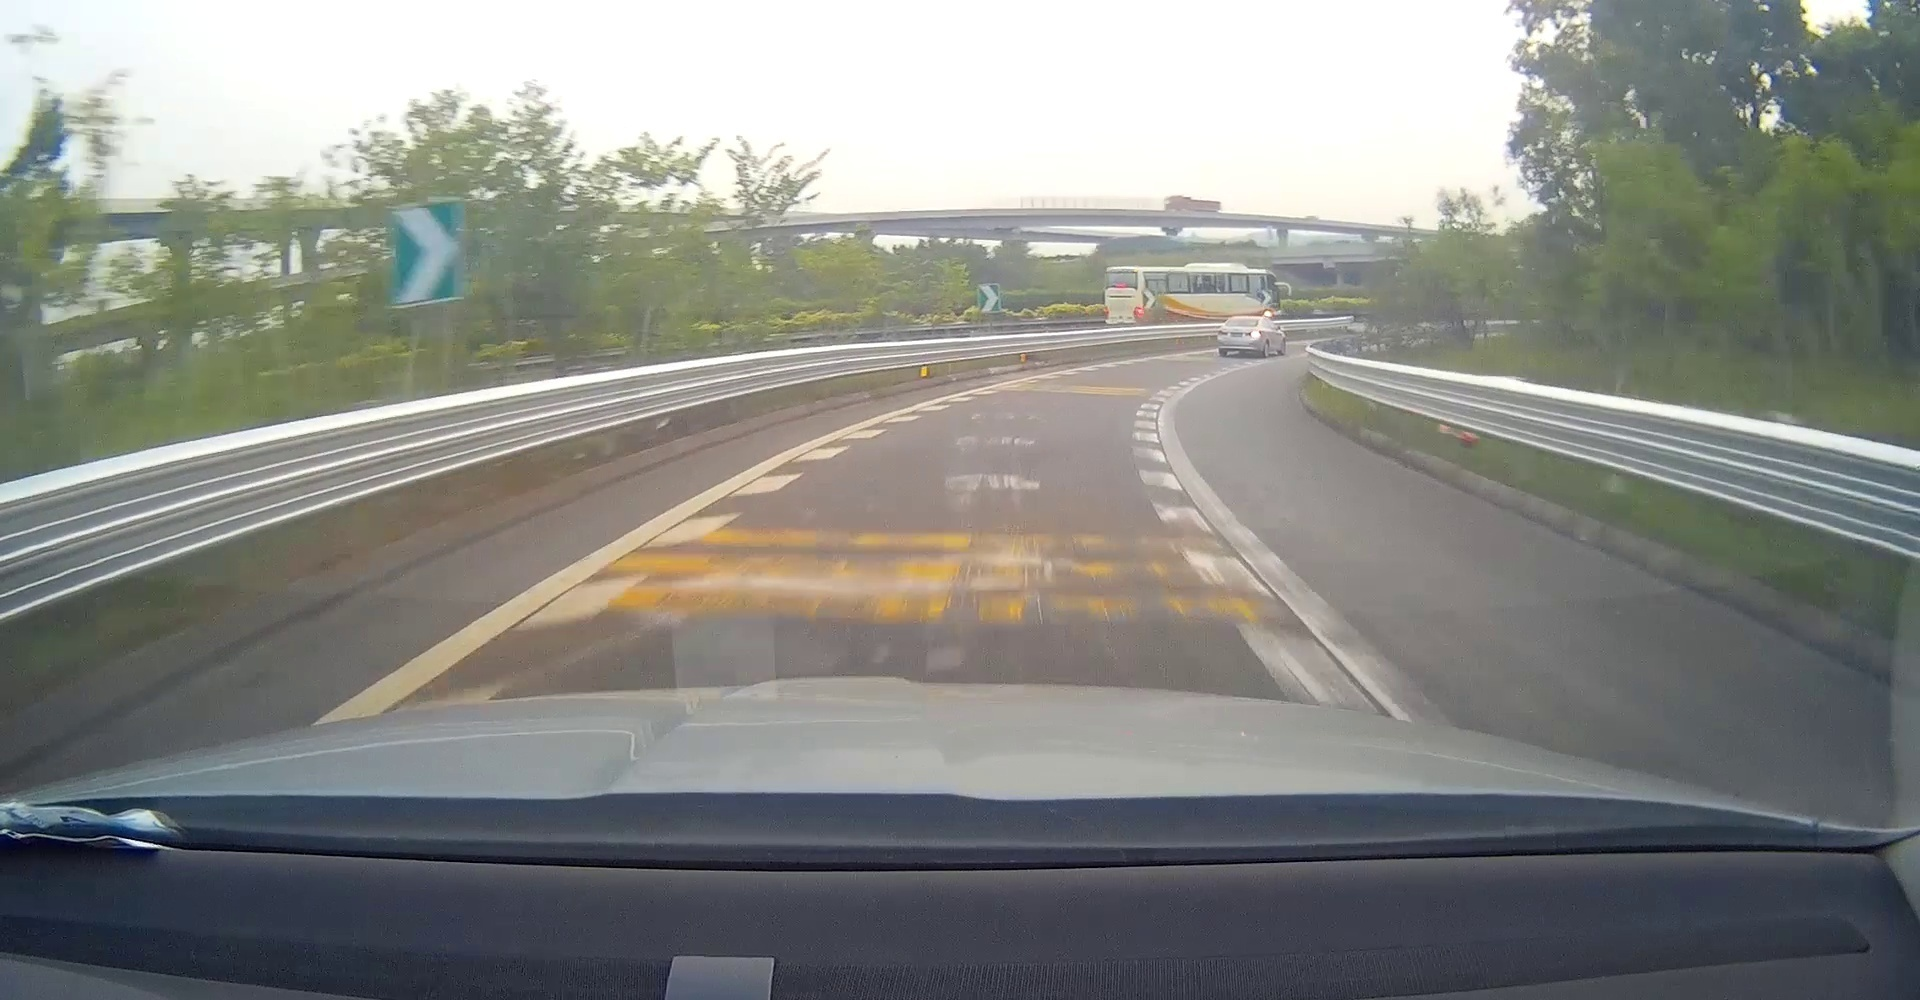L_light: (1217, 330, 1228, 336), (1103, 306, 1109, 319)
R_light: (1134, 307, 1142, 320), (1248, 331, 1261, 338)
T_light: (1115, 283, 1125, 287)
day-brake: (1103, 266, 1144, 327)
day-right: (1217, 317, 1262, 358)
